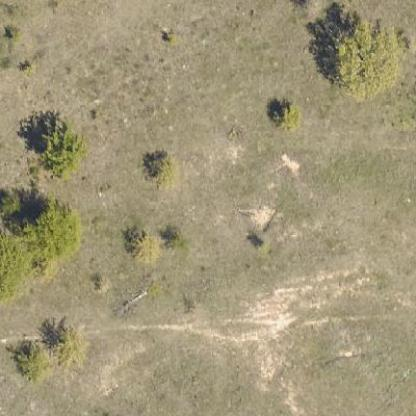tree-top: (328, 20, 406, 98), (28, 199, 78, 265), (42, 125, 88, 180), (0, 226, 28, 314), (50, 326, 85, 365), (11, 341, 46, 380), (139, 150, 176, 184), (123, 234, 157, 265), (264, 104, 300, 132)
